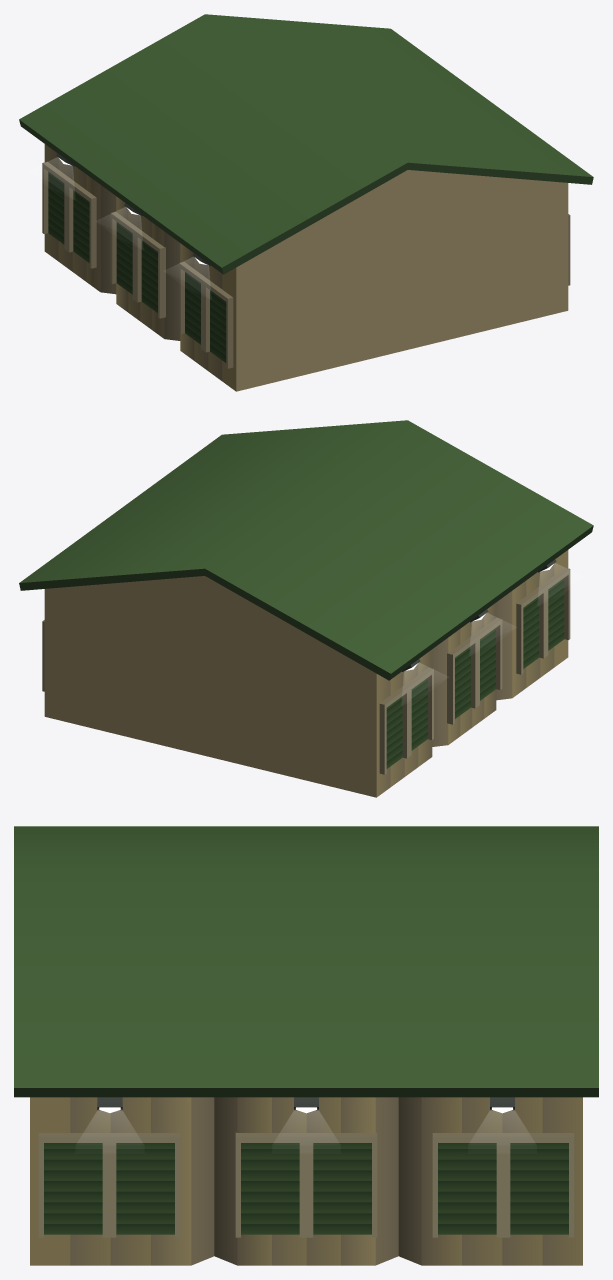
The model's file is buildings-industrial-storagefacility_v1.glb.
3 views of the same model, one above another, from view 1: azimuth 30°, elevation 25°; view 2: azimuth 150°, elevation 25°; view 3: azimuth 270°, elevation 25° (orthographic). The views are drawn at different scales.
Visible parts, largest first — view 1: StorageFacility_base, StorageFacility_light; view 2: StorageFacility_base, StorageFacility_light; view 3: StorageFacility_base, StorageFacility_light.
Boxes of the visible parts, left/top/right/bottom form: StorageFacility_base: left=19, top=14, right=593, bottom=391; StorageFacility_light: left=49, top=157, right=209, bottom=276; StorageFacility_base: left=19, top=420, right=593, bottom=797; StorageFacility_light: left=403, top=563, right=563, bottom=682; StorageFacility_base: left=14, top=826, right=598, bottom=1265; StorageFacility_light: left=92, top=1107, right=520, bottom=1121.
Bounding box in the file's own units: 29.39 × 12.94 × 24.7.
